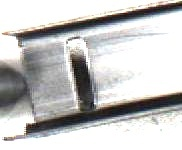40ngpress: (1, 12, 126, 140)
